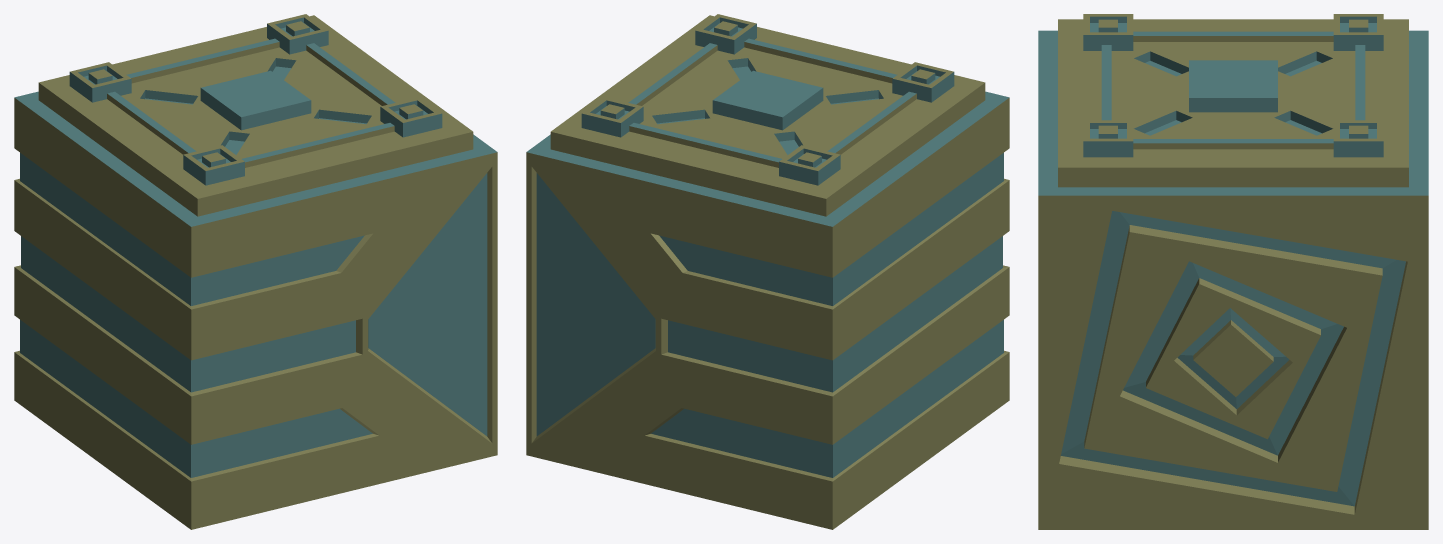
Rendered from wall1_remains2_blue.fbx.
The picture shows the model from 3 angles, left to right: view 1: azimuth 30°, elevation 25°; view 2: azimuth 150°, elevation 25°; view 3: azimuth 270°, elevation 25°; orthographic projection. The views are drawn at different scales.
Parts seen in each view (by area): view 1: Cube.003; view 2: Cube.003; view 3: Cube.003.
Part boxes in pixels (bbox=[...]): Cube.003: bbox=[14, 14, 497, 529]; Cube.003: bbox=[526, 14, 1009, 529]; Cube.003: bbox=[1038, 14, 1428, 529].
Bounding box in the file's own units: 1 × 1.05 × 1.
1 material, 1 textured.
